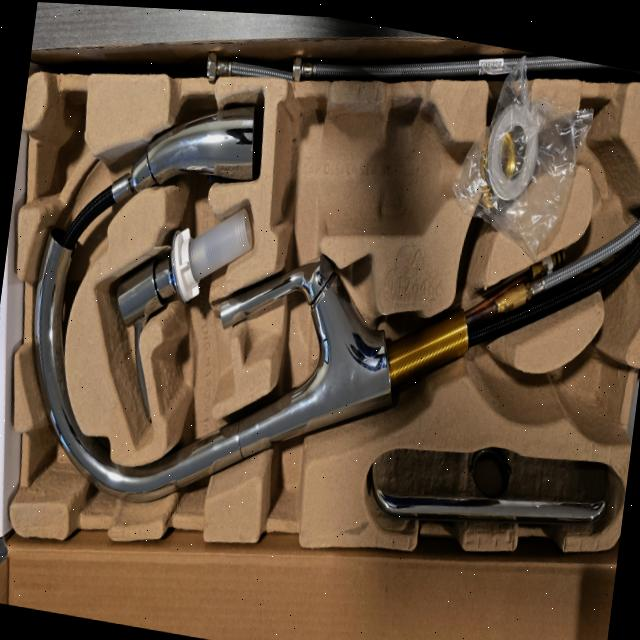1: (33, 106, 640, 503)
2: (116, 206, 251, 422)
3m: (270, 99, 475, 233)
4: (370, 446, 609, 523)
5m: (555, 346, 618, 432)
6: (448, 50, 593, 257)
7m: (564, 97, 635, 201)
